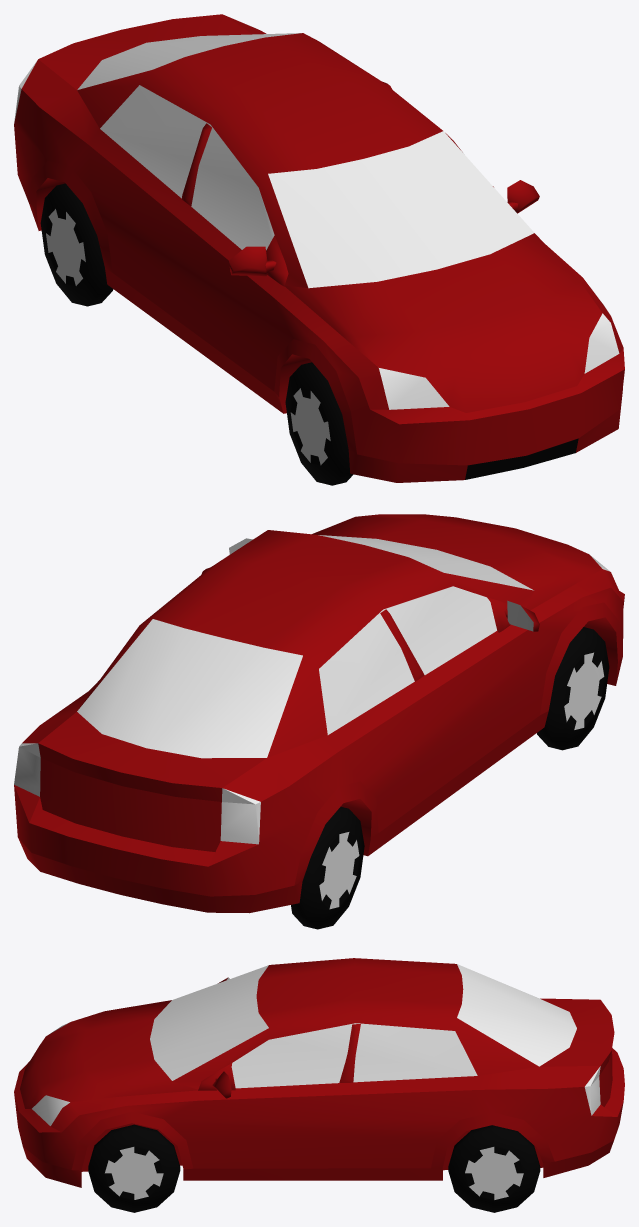
Rendered from машинакрасная.fbx.
The picture shows the model from 3 angles, top to bottom: view 1: azimuth 30°, elevation 25°; view 2: azimuth 150°, elevation 25°; view 3: azimuth 270°, elevation 25°; orthographic projection. The views are drawn at different scales.
Visible parts, largest first — view 1: MESH_LargerBody; view 2: MESH_LargerBody; view 3: MESH_LargerBody.
Boxes of the visible parts, x1,y1,x2,y2 form: MESH_LargerBody: (14, 14, 624, 485); MESH_LargerBody: (14, 514, 624, 929); MESH_LargerBody: (14, 958, 624, 1212).
Bounding box in the file's own units: 196 × 152 × 459.
